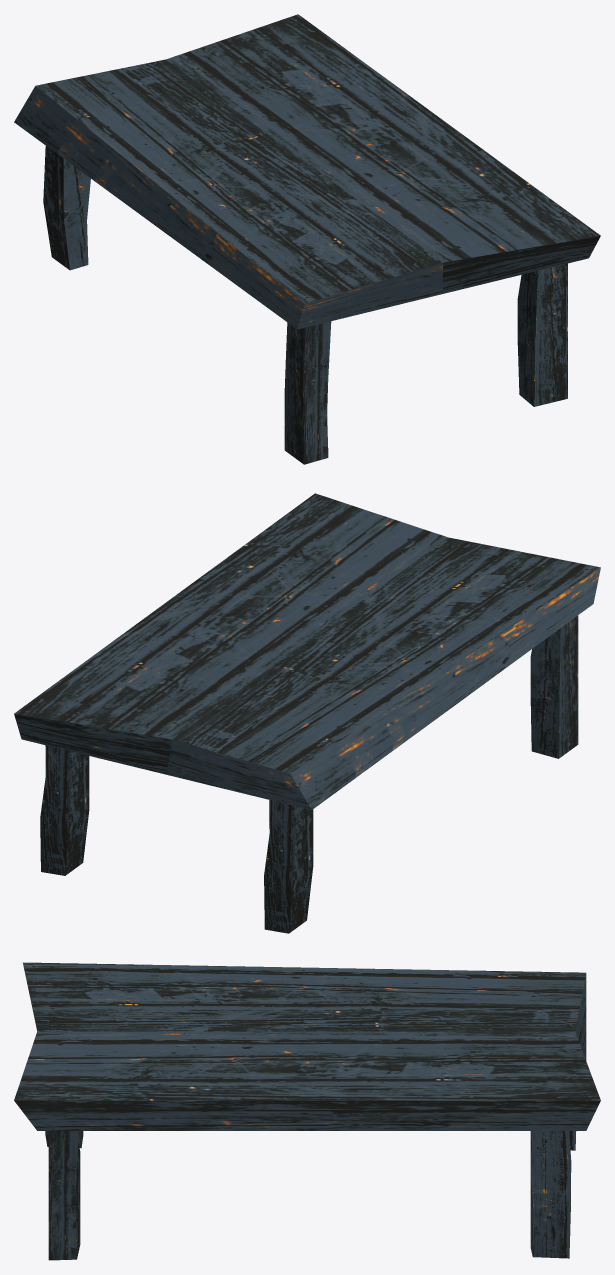
Rendered from table.fbx.
3 views of the same model, one above another, from view 1: azimuth 30°, elevation 25°; view 2: azimuth 150°, elevation 25°; view 3: azimuth 270°, elevation 25° (orthographic). The views are drawn at different scales.
Visible parts, largest first — view 1: table; view 2: table; view 3: table.
Part boxes in pixels (x1,y1,x2,y2): table: (14,14,600,464); table: (14,493,600,933); table: (14,962,600,1260).
Bounding box in the file's own units: 0.0176 × 0.00991 × 0.0316.
